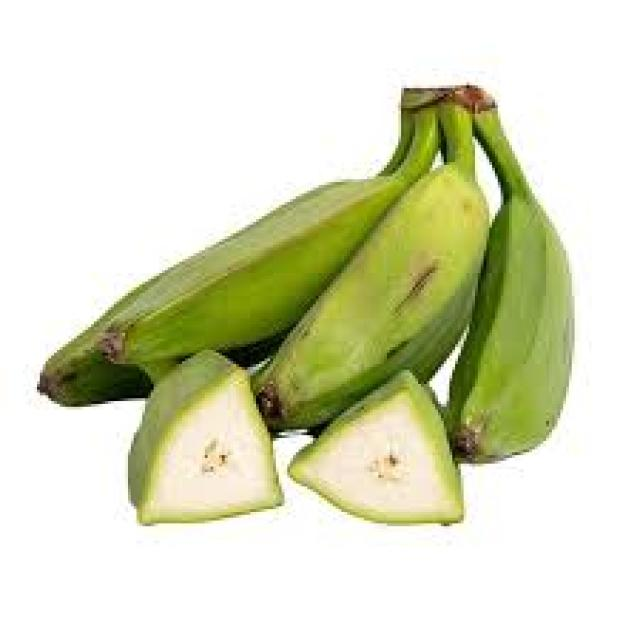banana: (34, 80, 575, 526)
